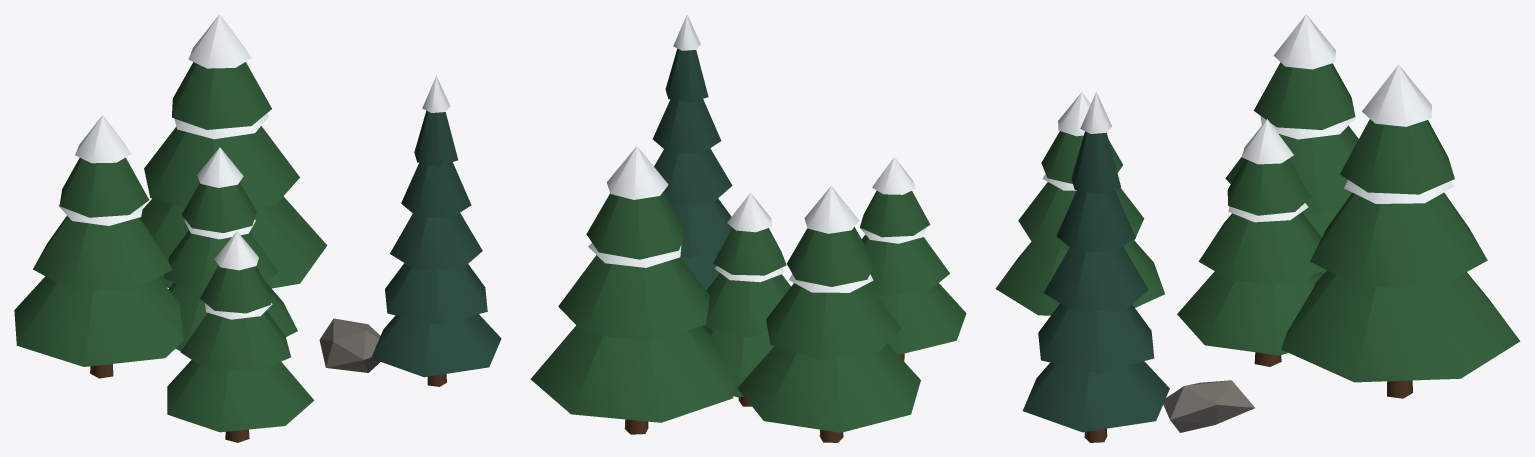
Rendered from sawyer_snowy_stand_d.glb.
3 views of the same model, side by side, from view 1: azimuth 30°, elevation 25°; view 2: azimuth 150°, elevation 25°; view 3: azimuth 270°, elevation 25° (orthographic). The views are drawn at different scales.
Parts seen in each view (by area): view 1: snowpine_1_tier0, snowpine_3_tier0, snowpine_1_tier1, snowpine_2_tier1, snowspruce_5_tier0, snowpine_2_tier0, snowpine_2_tier2, snowpine_3_tier1, snowspruce_5_tier1, snowpine_1_tier2, snowspruce_5_tier2, snowpine_0_tier1 (+13 smaller); view 2: snowpine_2_tier0, snowpine_1_tier0, snowpine_2_tier1, snowpine_1_tier1, snowpine_2_tier2, snowpine_3_tier0, snowpine_1_tier2, snowpine_0_tier1, snowpine_3_tier1, snowspruce_5_tier2, snowspruce_5_tier3, snowpine_0_tier2 (+13 smaller); view 3: snowpine_2_tier0, snowpine_2_tier1, snowspruce_5_tier0, snowpine_0_tier0, snowpine_0_tier1, snowpine_2_tier2, snowspruce_5_tier1, snowpine_1_tier2, snowspruce_5_tier2, snowpine_3_tier0, snowpine_1_tier1, snowspruce_5_tier3 (+14 smaller).
Boxes of the visible parts, x1,y1,x2,y2 form: snowpine_1_tier0: (14,276,183,366); snowpine_3_tier0: (167,360,314,432); snowpine_1_tier1: (33,215,172,290); snowpine_2_tier1: (144,126,299,207); snowspruce_5_tier0: (371,314,501,377); snowpine_2_tier0: (140,196,327,288); snowpine_2_tier2: (172,62,271,129); snowpine_3_tier1: (180,310,290,372); snowspruce_5_tier1: (385,263,487,324); snowpine_1_tier2: (59,157,148,217); snowspruce_5_tier2: (390,213,482,269); snowpine_0_tier1: (164,230,278,293); snowpine_2_tier0: (530,325,733,422); snowpine_1_tier0: (737,343,920,432); snowpine_2_tier1: (558,255,709,341); snowpine_1_tier1: (766,283,901,359); snowpine_2_tier2: (586,192,686,259); snowpine_3_tier0: (876,283,966,354); snowpine_1_tier2: (787,227,875,286); snowpine_0_tier1: (703,273,790,337); snowpine_3_tier1: (862,234,949,295); snowspruce_5_tier2: (654,148,732,204); snowspruce_5_tier3: (652,99,721,153); snowpine_0_tier2: (713,227,786,275); snowpine_2_tier0: (1281,270,1520,382); snowpine_2_tier1: (1310,192,1487,287); snowspruce_5_tier0: (1022,361,1169,432); snowpine_0_tier0: (1177,271,1323,355); snowpine_0_tier1: (1200,212,1325,284); snowpine_2_tier2: (1340,119,1454,194); snowspruce_5_tier1: (1038,303,1154,372); snowpine_1_tier2: (1253,62,1355,129); snowspruce_5_tier2: (1044,246,1148,311); snowpine_3_tier0: (995,241,1164,315); snowpine_1_tier1: (1225,125,1358,214); snowspruce_5_tier3: (1056,189,1135,252).
Size of the model in its own units: 4.15 by 3.28 by 4.35.
